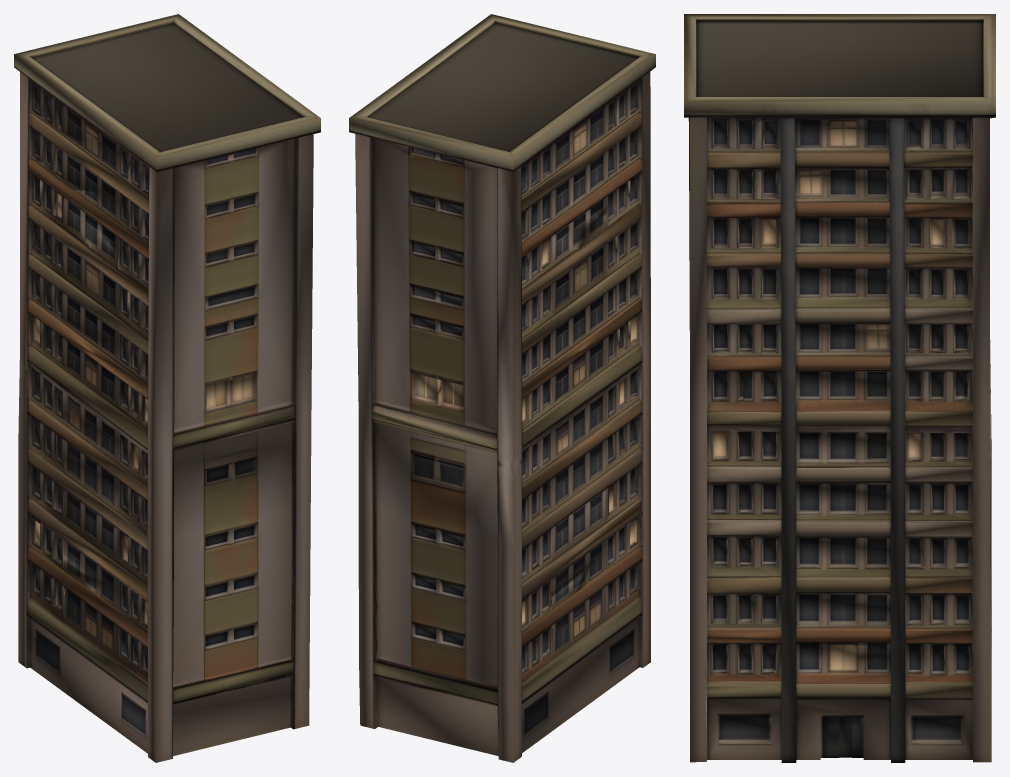
Rendered from building1.glb.
The picture shows the model from 3 angles, left to right: view 1: azimuth 30°, elevation 25°; view 2: azimuth 150°, elevation 25°; view 3: azimuth 270°, elevation 25°; orthographic projection. The views are drawn at different scales.
Visible parts, largest first — view 1: tripo_node_2a355fdc-82d8-4310-b59a-edcc3f58689b; view 2: tripo_node_2a355fdc-82d8-4310-b59a-edcc3f58689b; view 3: tripo_node_2a355fdc-82d8-4310-b59a-edcc3f58689b.
Boxes of the visible parts, x1,y1,x2,y2 form: tripo_node_2a355fdc-82d8-4310-b59a-edcc3f58689b: (14, 14, 320, 762); tripo_node_2a355fdc-82d8-4310-b59a-edcc3f58689b: (349, 14, 655, 762); tripo_node_2a355fdc-82d8-4310-b59a-edcc3f58689b: (684, 14, 995, 762).
Bounding box in the file's own units: 0.2832 × 0.998 × 0.4238.
Materials: 1 (1 with a texture image).
